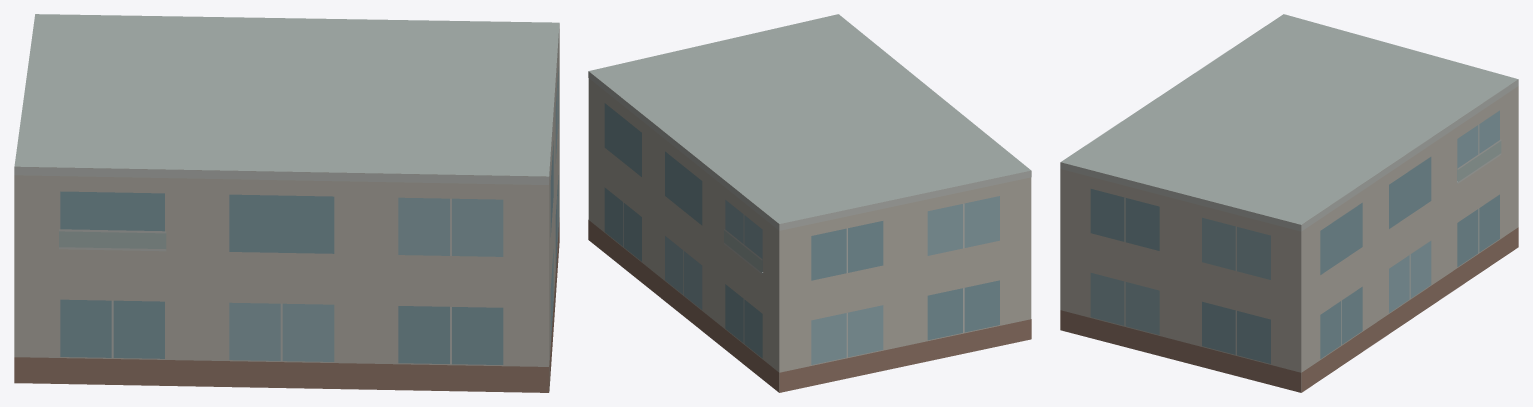
The model's file is survey-upis-32880987.glb.
3 renders of one model, left to right at view 1: azimuth 30°, elevation 25°; view 2: azimuth 150°, elevation 25°; view 3: azimuth 270°, elevation 25°, orthographic. The views are drawn at different scales.
Visible parts, largest first — view 1: survey-upis-32880987.tmp; view 2: survey-upis-32880987.tmp; view 3: survey-upis-32880987.tmp.
Boxes of the visible parts, box(x1,y1,x2,y2) form: survey-upis-32880987.tmp: box(14, 14, 559, 392); survey-upis-32880987.tmp: box(588, 14, 1031, 392); survey-upis-32880987.tmp: box(1060, 14, 1518, 392).
Bounding box in the file's own units: 16.43 × 6.1 × 15.08.
